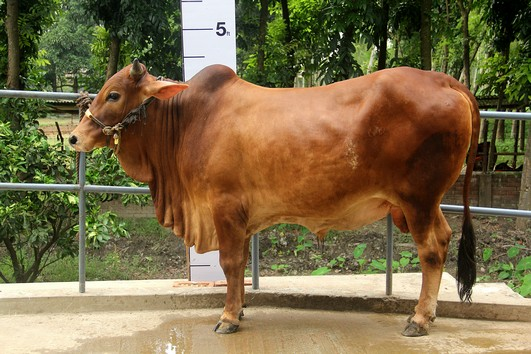cow: (68, 54, 481, 342)
